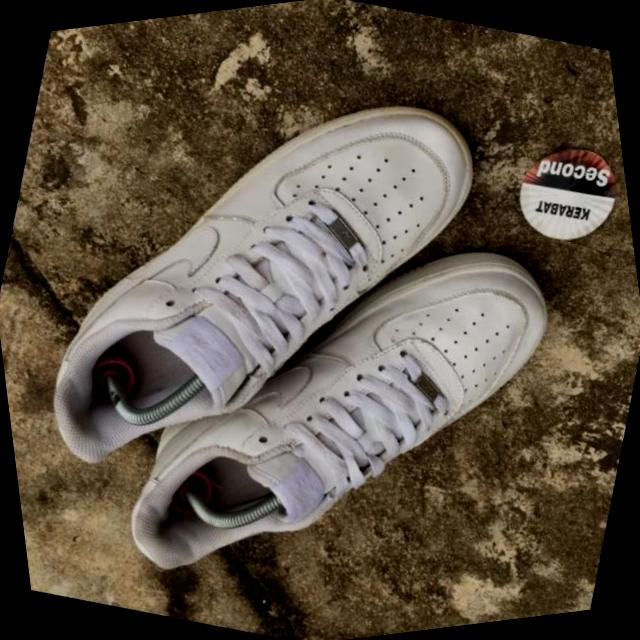nike_original_airforce: (0, 4, 534, 570), (80, 142, 610, 640)
